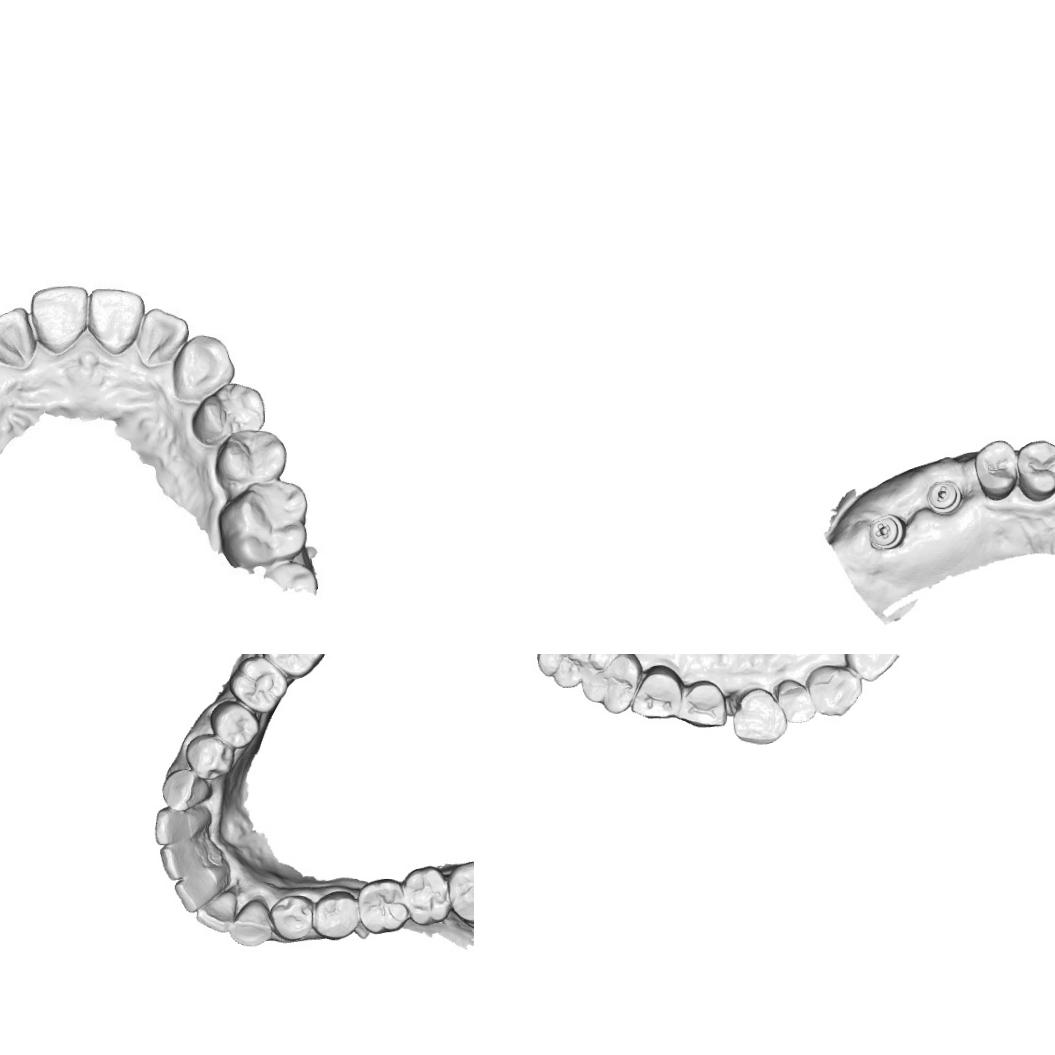canine: (172, 331, 236, 402), (732, 686, 790, 747), (226, 896, 276, 950), (159, 766, 214, 813)
implant_minus: (924, 478, 964, 517)
implant_plus: (866, 510, 905, 554)
incisor: (26, 284, 92, 352), (85, 284, 146, 352), (804, 663, 865, 719), (134, 304, 188, 366), (151, 802, 213, 848), (0, 305, 41, 371), (172, 868, 225, 916), (157, 841, 210, 883), (194, 888, 239, 934), (774, 678, 818, 724)
molar: (215, 479, 309, 573), (225, 654, 290, 717), (401, 863, 454, 928), (357, 874, 409, 936), (534, 654, 596, 689), (445, 854, 474, 927), (256, 654, 330, 680)
premolar: (190, 380, 268, 449), (214, 426, 289, 490), (579, 654, 644, 715), (205, 697, 264, 751), (971, 437, 1019, 502), (630, 663, 684, 720), (310, 888, 362, 942), (1013, 437, 1055, 503), (182, 731, 236, 782), (268, 891, 316, 944), (680, 677, 728, 730)
